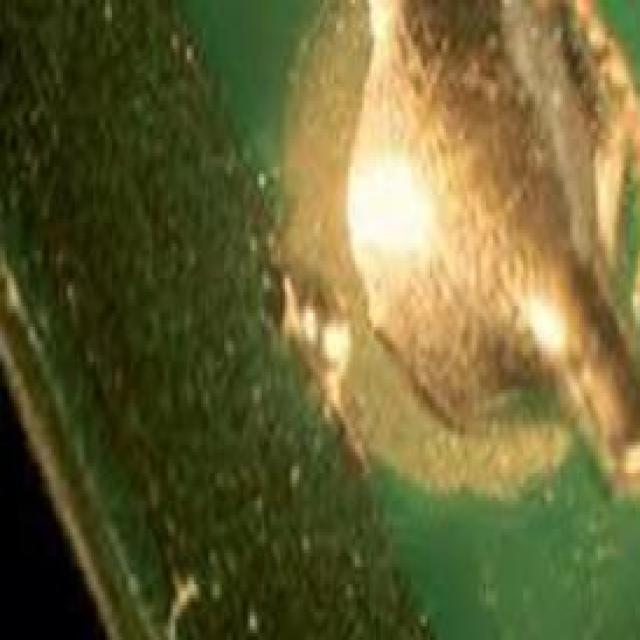slug: (341, 0, 637, 497)
